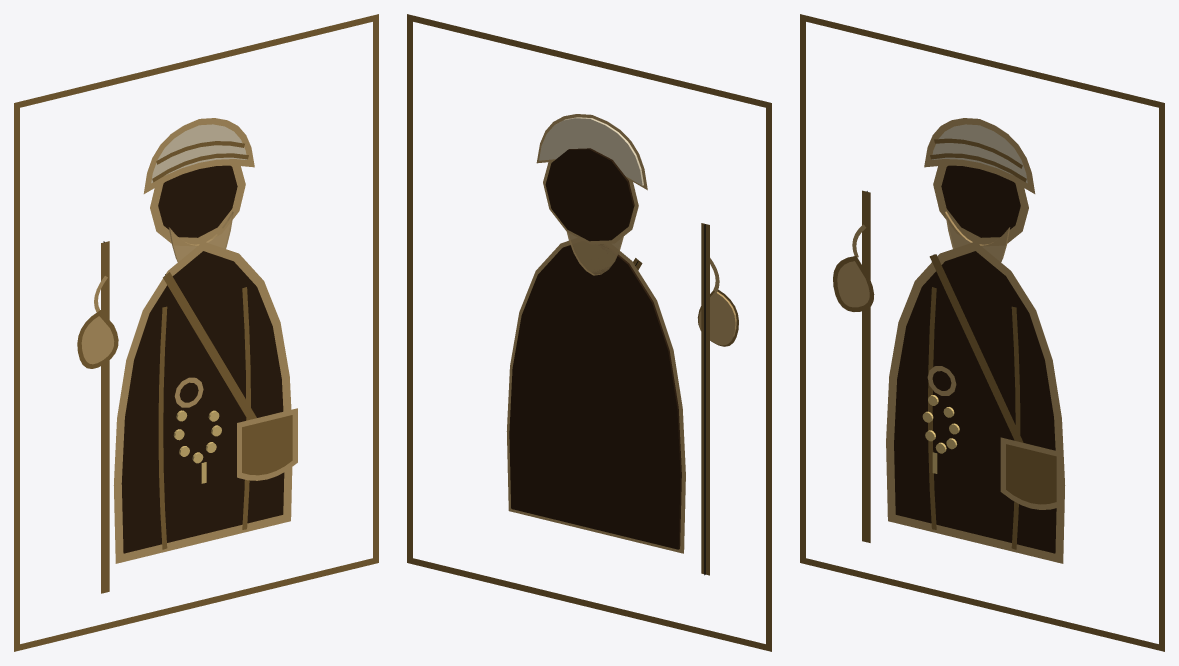
File: npc-strannik-musulmanin.glb
The picture shows the model from 3 angles, left to right: view 1: azimuth 30°, elevation 25°; view 2: azimuth 150°, elevation 25°; view 3: azimuth 330°, elevation 25°; orthographic projection.
Parts seen in each view (by area): view 1: npc-strannik-musulmanin; view 2: npc-strannik-musulmanin; view 3: npc-strannik-musulmanin.
Boxes of the visible parts, x1=… form: npc-strannik-musulmanin: x1=14, y1=14, x2=378, y2=651; npc-strannik-musulmanin: x1=407, y1=14, x2=771, y2=651; npc-strannik-musulmanin: x1=800, y1=14, x2=1164, y2=651.
Bounding box in the file's own units: 1.14 × 1.64 × 0.1504.
